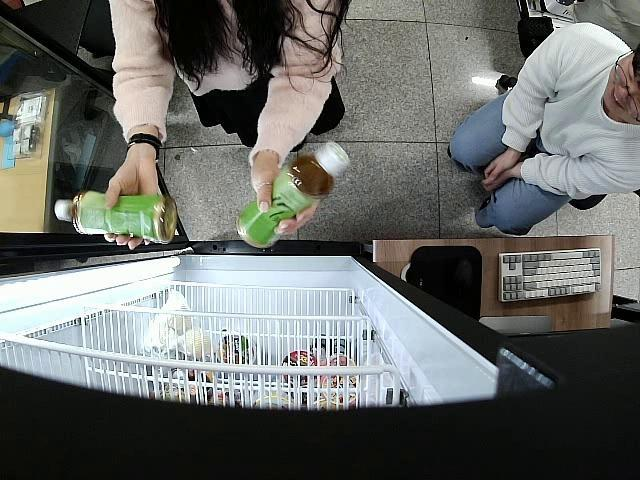19_17cha: (238, 142, 350, 246), (56, 190, 180, 245)
